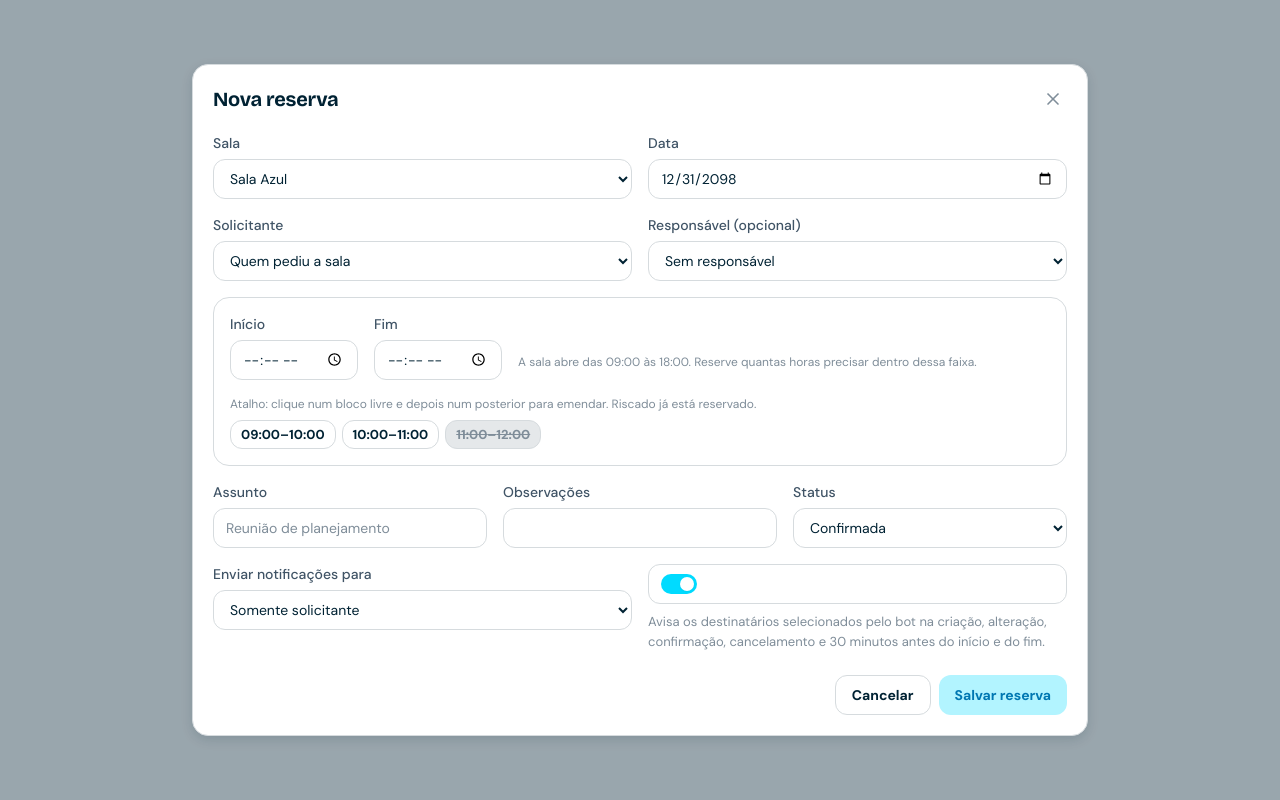
ReservaDialog › mostra a duração escolhida
In the time field labelled "Início": x=294, y=360 [230,340,358,380], type "09:00"
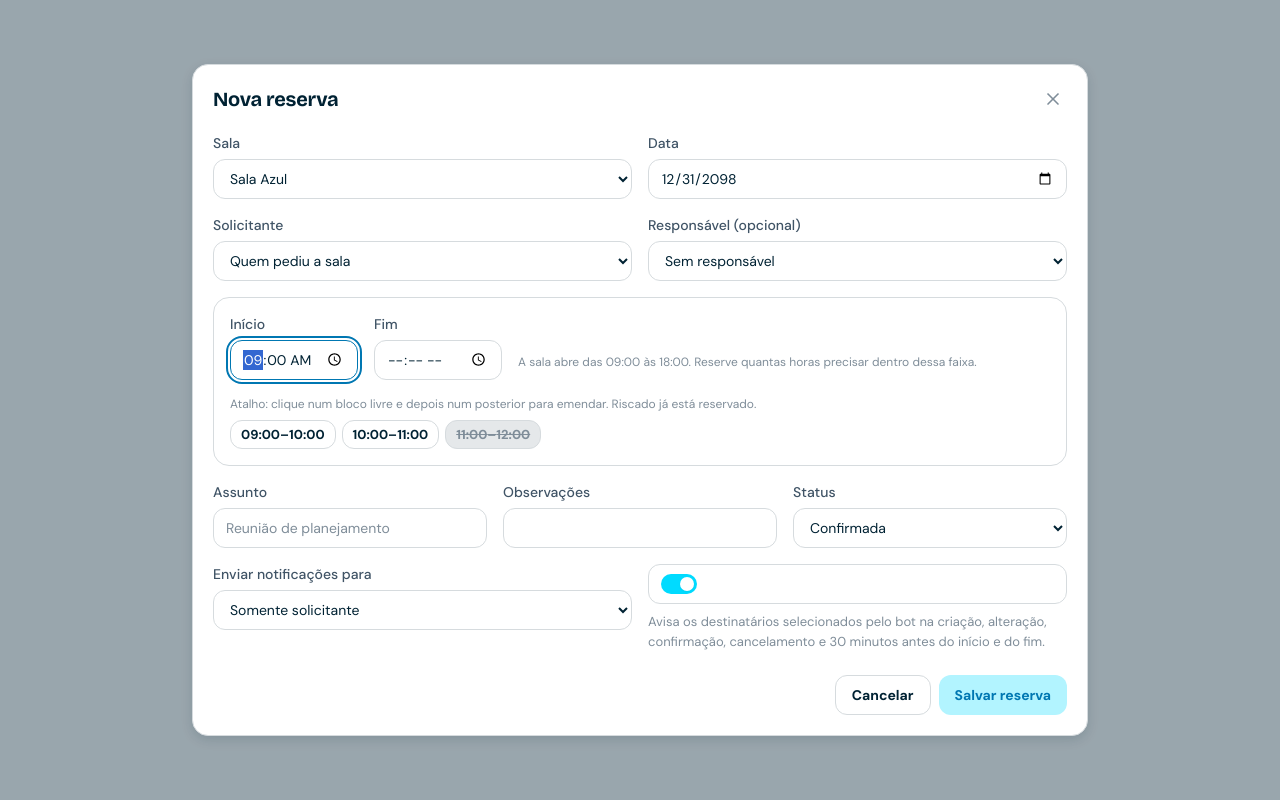
In the time field labelled "Fim": x=438, y=360 [374,340,502,380], type "14:30"
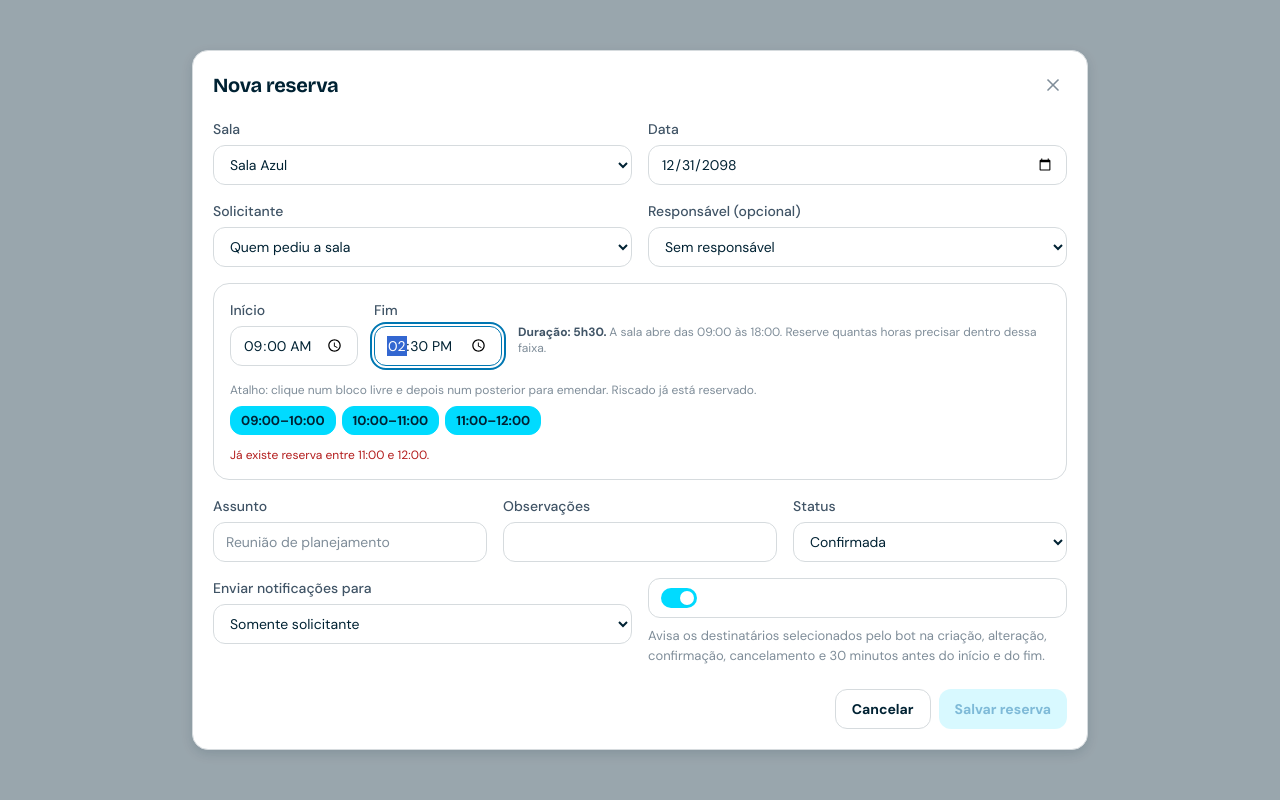
Expected: the text "Duração: 5h30." is shown, [518,324,609,340]
